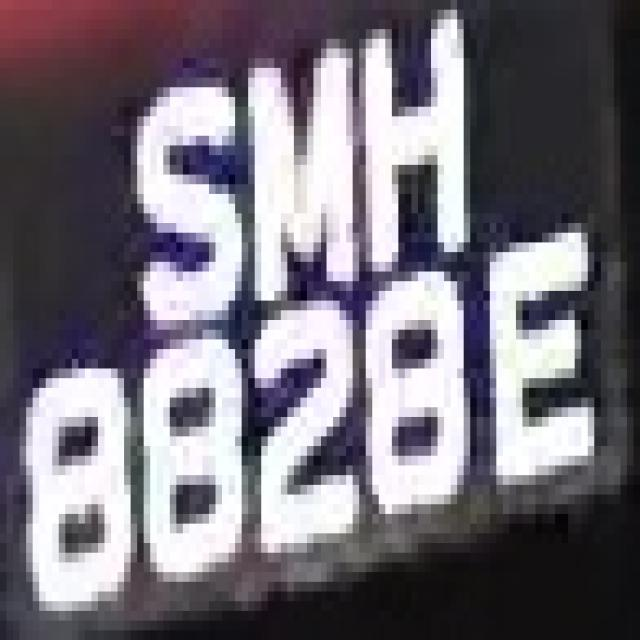2: (235, 310, 366, 562)
8: (7, 349, 144, 640), (124, 310, 255, 602), (346, 252, 477, 533)
E: (483, 213, 614, 524)
H: (353, 0, 483, 281)
M: (222, 19, 366, 310)
S: (111, 49, 255, 349)
